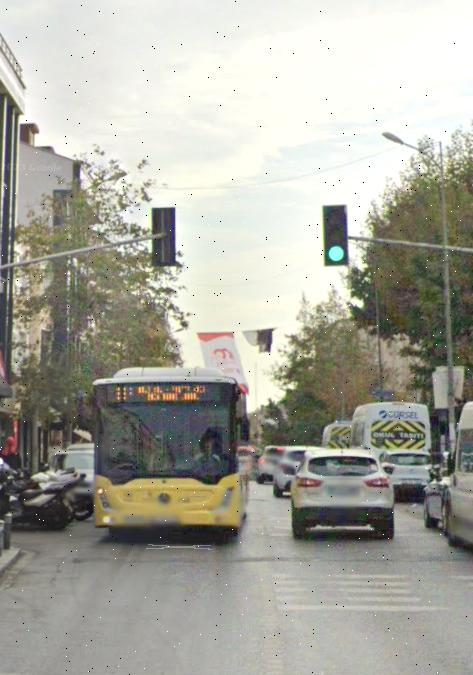greenlight: (322, 206, 348, 266)
